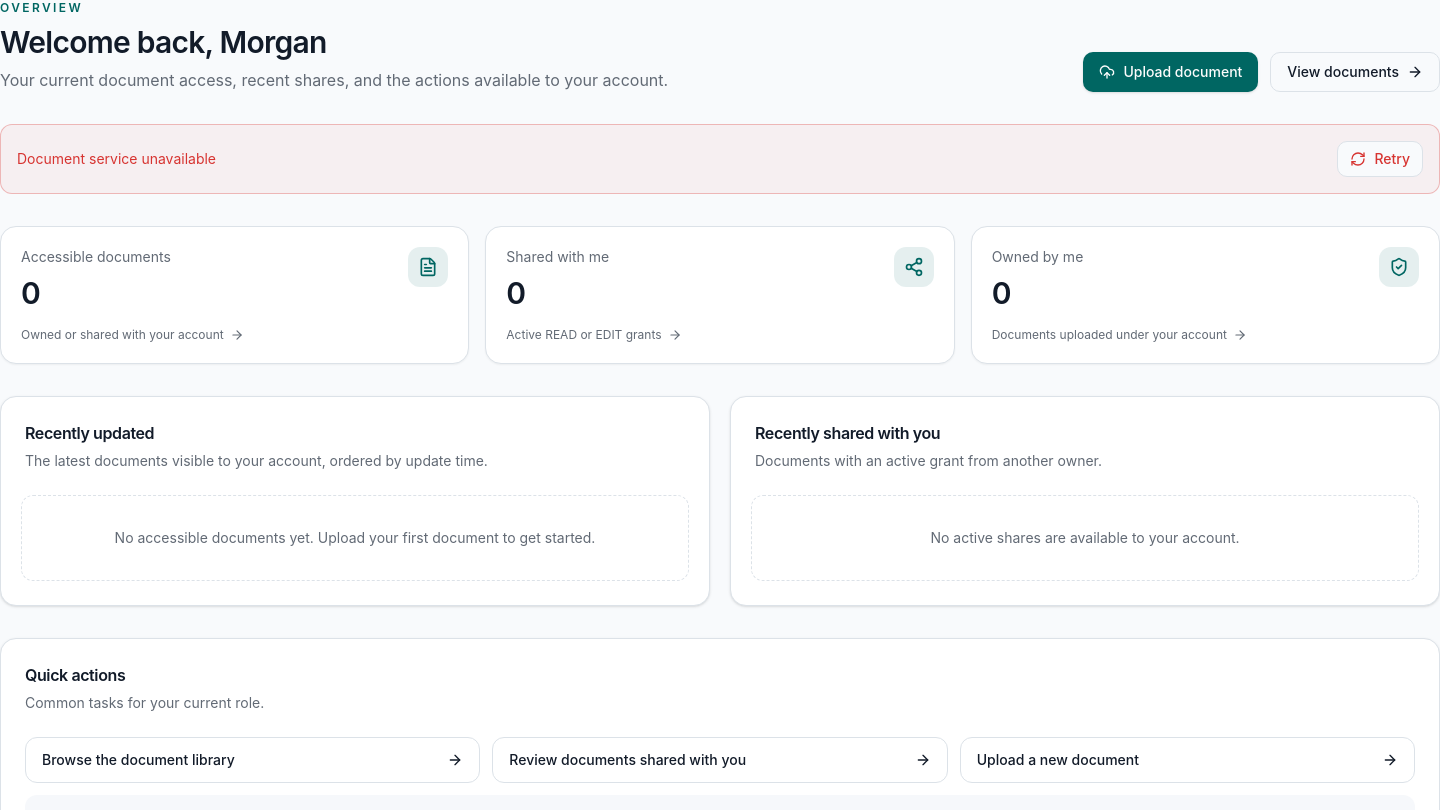
it: DashboardPage › surfaces API failures and retries without a page reload
The width and height of the screenshot is (1440, 810).
Expected: the message shows "Document service unavailable", [17, 150, 216, 167]
What coordinates should you click on to do the following:
click the button "Retry"
I would click on:
 (1380, 159)
Its box is [1337, 141, 1423, 177].
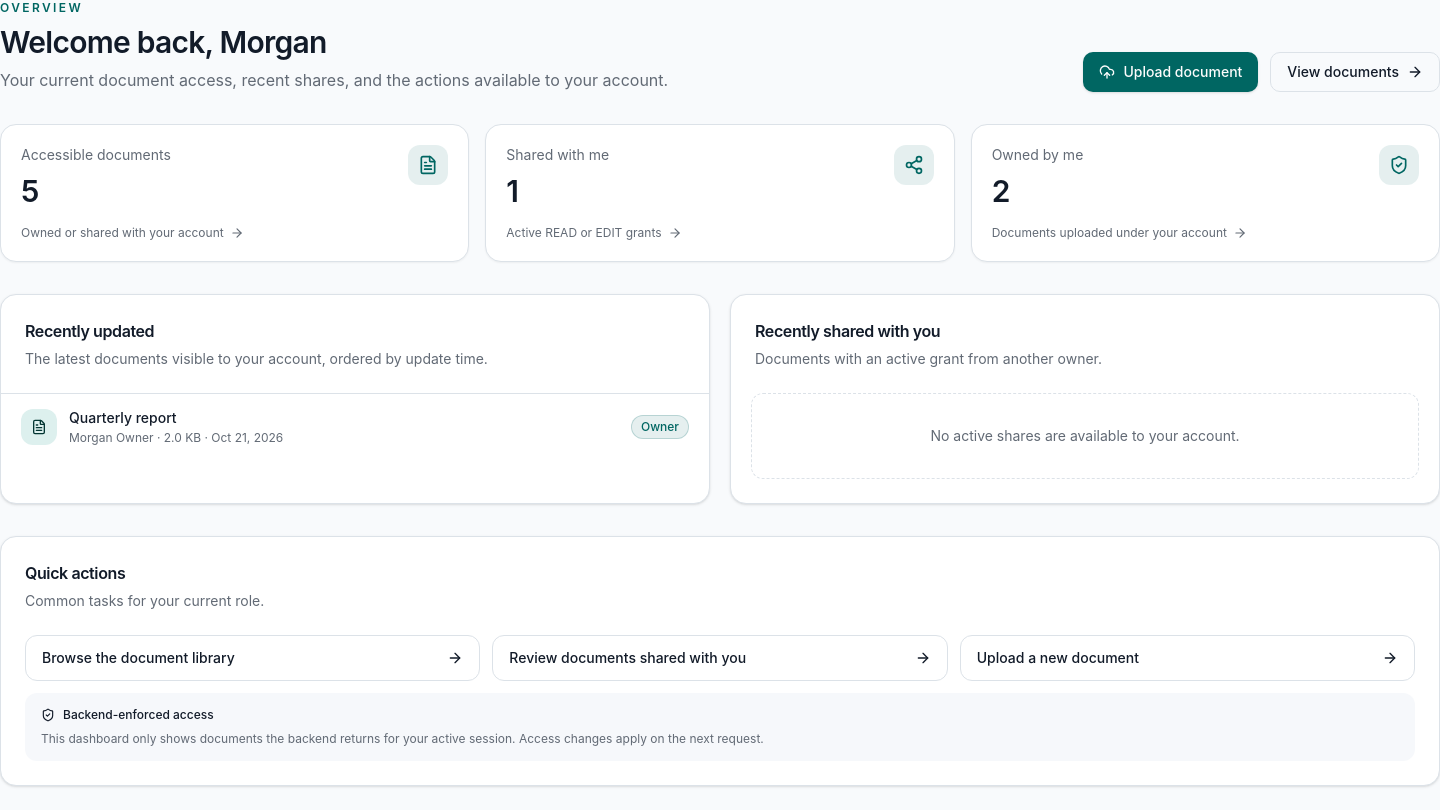
Expected: the text "Quarterly report" is shown, [69, 409, 177, 426]
Expected: the message "Document service unavailable Retry" is gone
